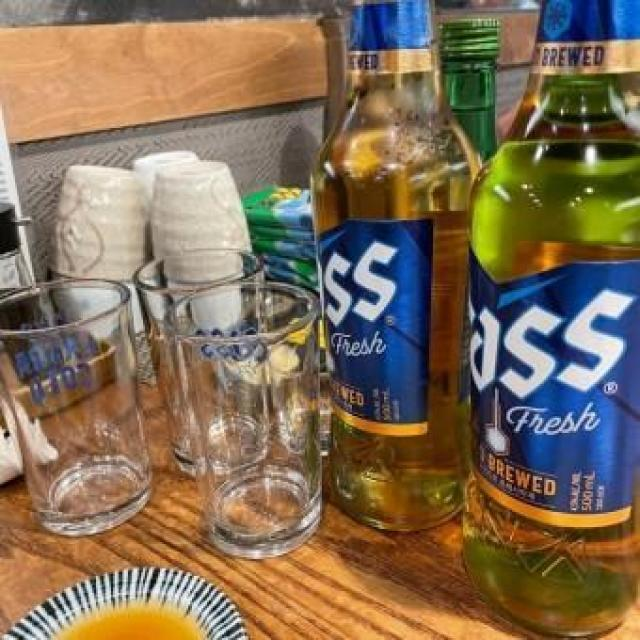beer-bottle: (463, 0, 640, 640), (312, 12, 468, 540)
